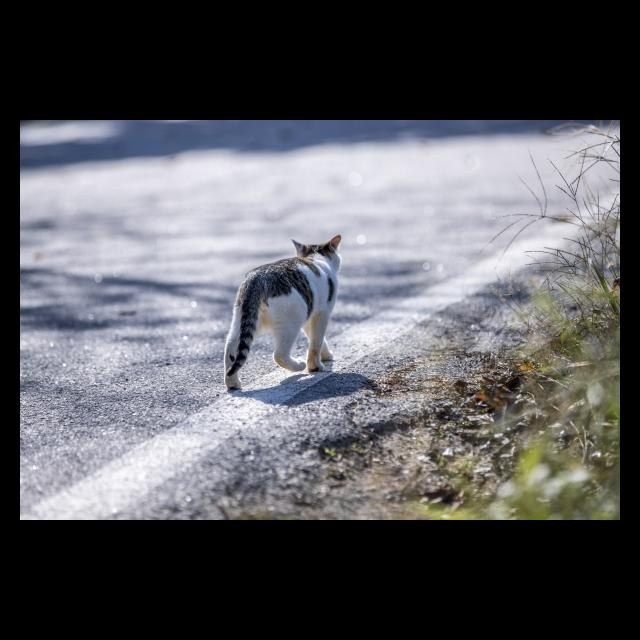animals: (225, 235, 342, 390)
